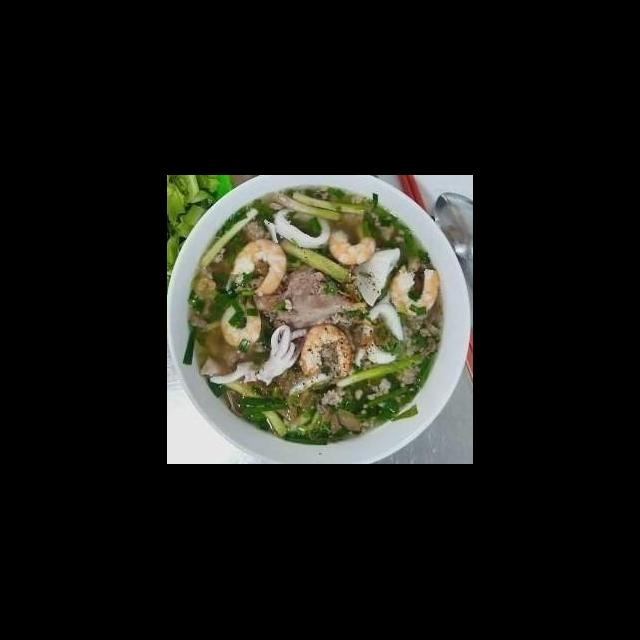muc: (250, 322, 311, 388), (357, 296, 410, 368), (355, 244, 404, 308), (269, 204, 333, 252)
thit bam: (393, 316, 449, 388)
tom: (223, 233, 291, 300), (294, 320, 358, 380), (385, 260, 447, 320), (322, 218, 381, 270), (218, 294, 267, 352)
